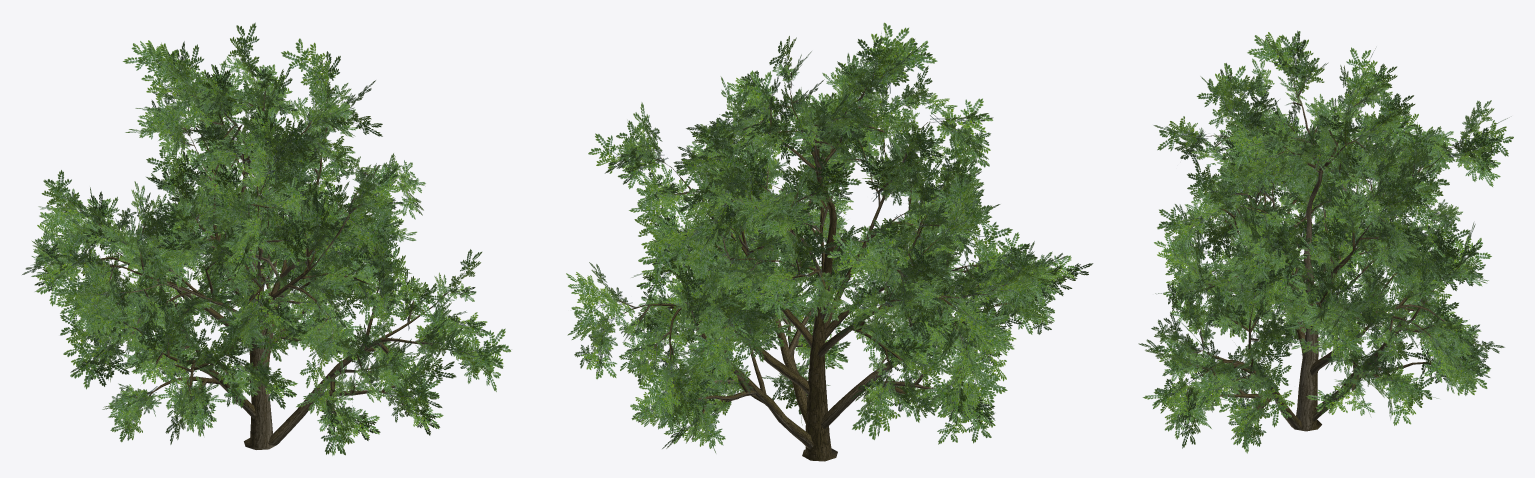
File: trees_c.glb
3 renders of one model, left to right at view 1: azimuth 30°, elevation 25°; view 2: azimuth 150°, elevation 25°; view 3: azimuth 270°, elevation 25°, orthographic. The views are drawn at different scales.
Visible parts, largest first — view 1: Mesh_1.007, Mesh_0.007; view 2: Mesh_1.007, Mesh_0.007; view 3: Mesh_1.007, Mesh_0.007.
Boxes of the visible parts, left/top/right/bottom form: Mesh_1.007: left=22, top=22, right=511, bottom=455; Mesh_0.007: left=52, top=75, right=467, bottom=449; Mesh_1.007: left=566, top=22, right=1093, bottom=453; Mesh_0.007: left=615, top=71, right=1012, bottom=461; Mesh_1.007: left=1138, top=30, right=1513, bottom=453; Mesh_0.007: left=1180, top=62, right=1464, bottom=431.
Bounding box in the file's own units: 1.13 × 1 × 0.9107.
Materials: 2 (2 with a texture image).
